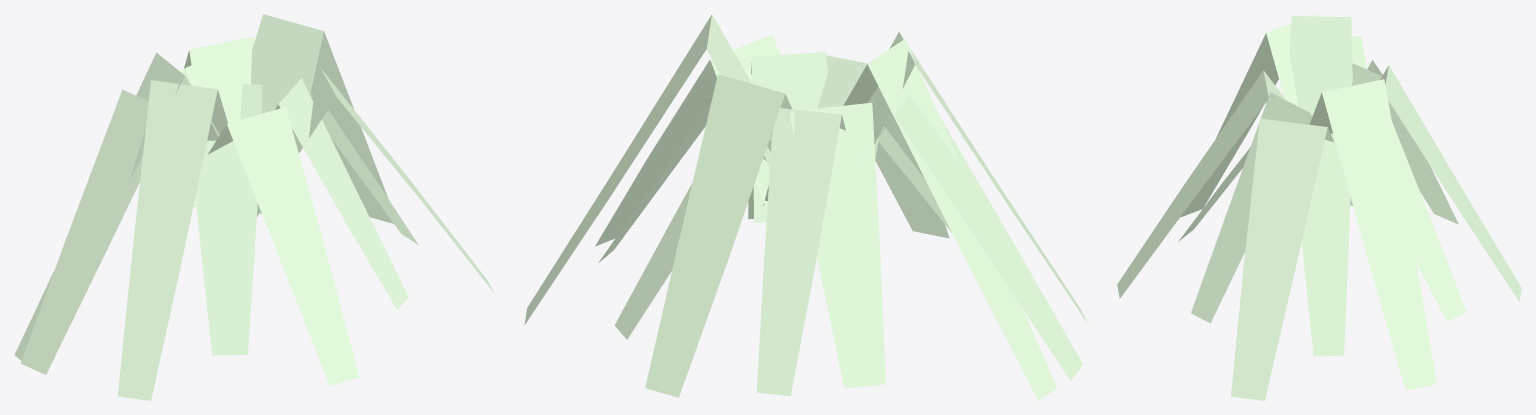
Rendered from fern_clump.gltf.
3 views of the same model, side by side, from view 1: azimuth 30°, elevation 25°; view 2: azimuth 150°, elevation 25°; view 3: azimuth 270°, elevation 25° (orthographic). The views are drawn at different scales.
Visible parts, largest first — view 1: fern_clump_Fern_Frond; view 2: fern_clump_Fern_Frond; view 3: fern_clump_Fern_Frond.
Boxes of the visible parts, x1,y1,x2,y2 form: fern_clump_Fern_Frond: [14, 14, 494, 400]; fern_clump_Fern_Frond: [524, 14, 1087, 400]; fern_clump_Fern_Frond: [1117, 14, 1521, 400].
Bounding box in the file's own units: 2.2 × 1.26 × 1.83.
